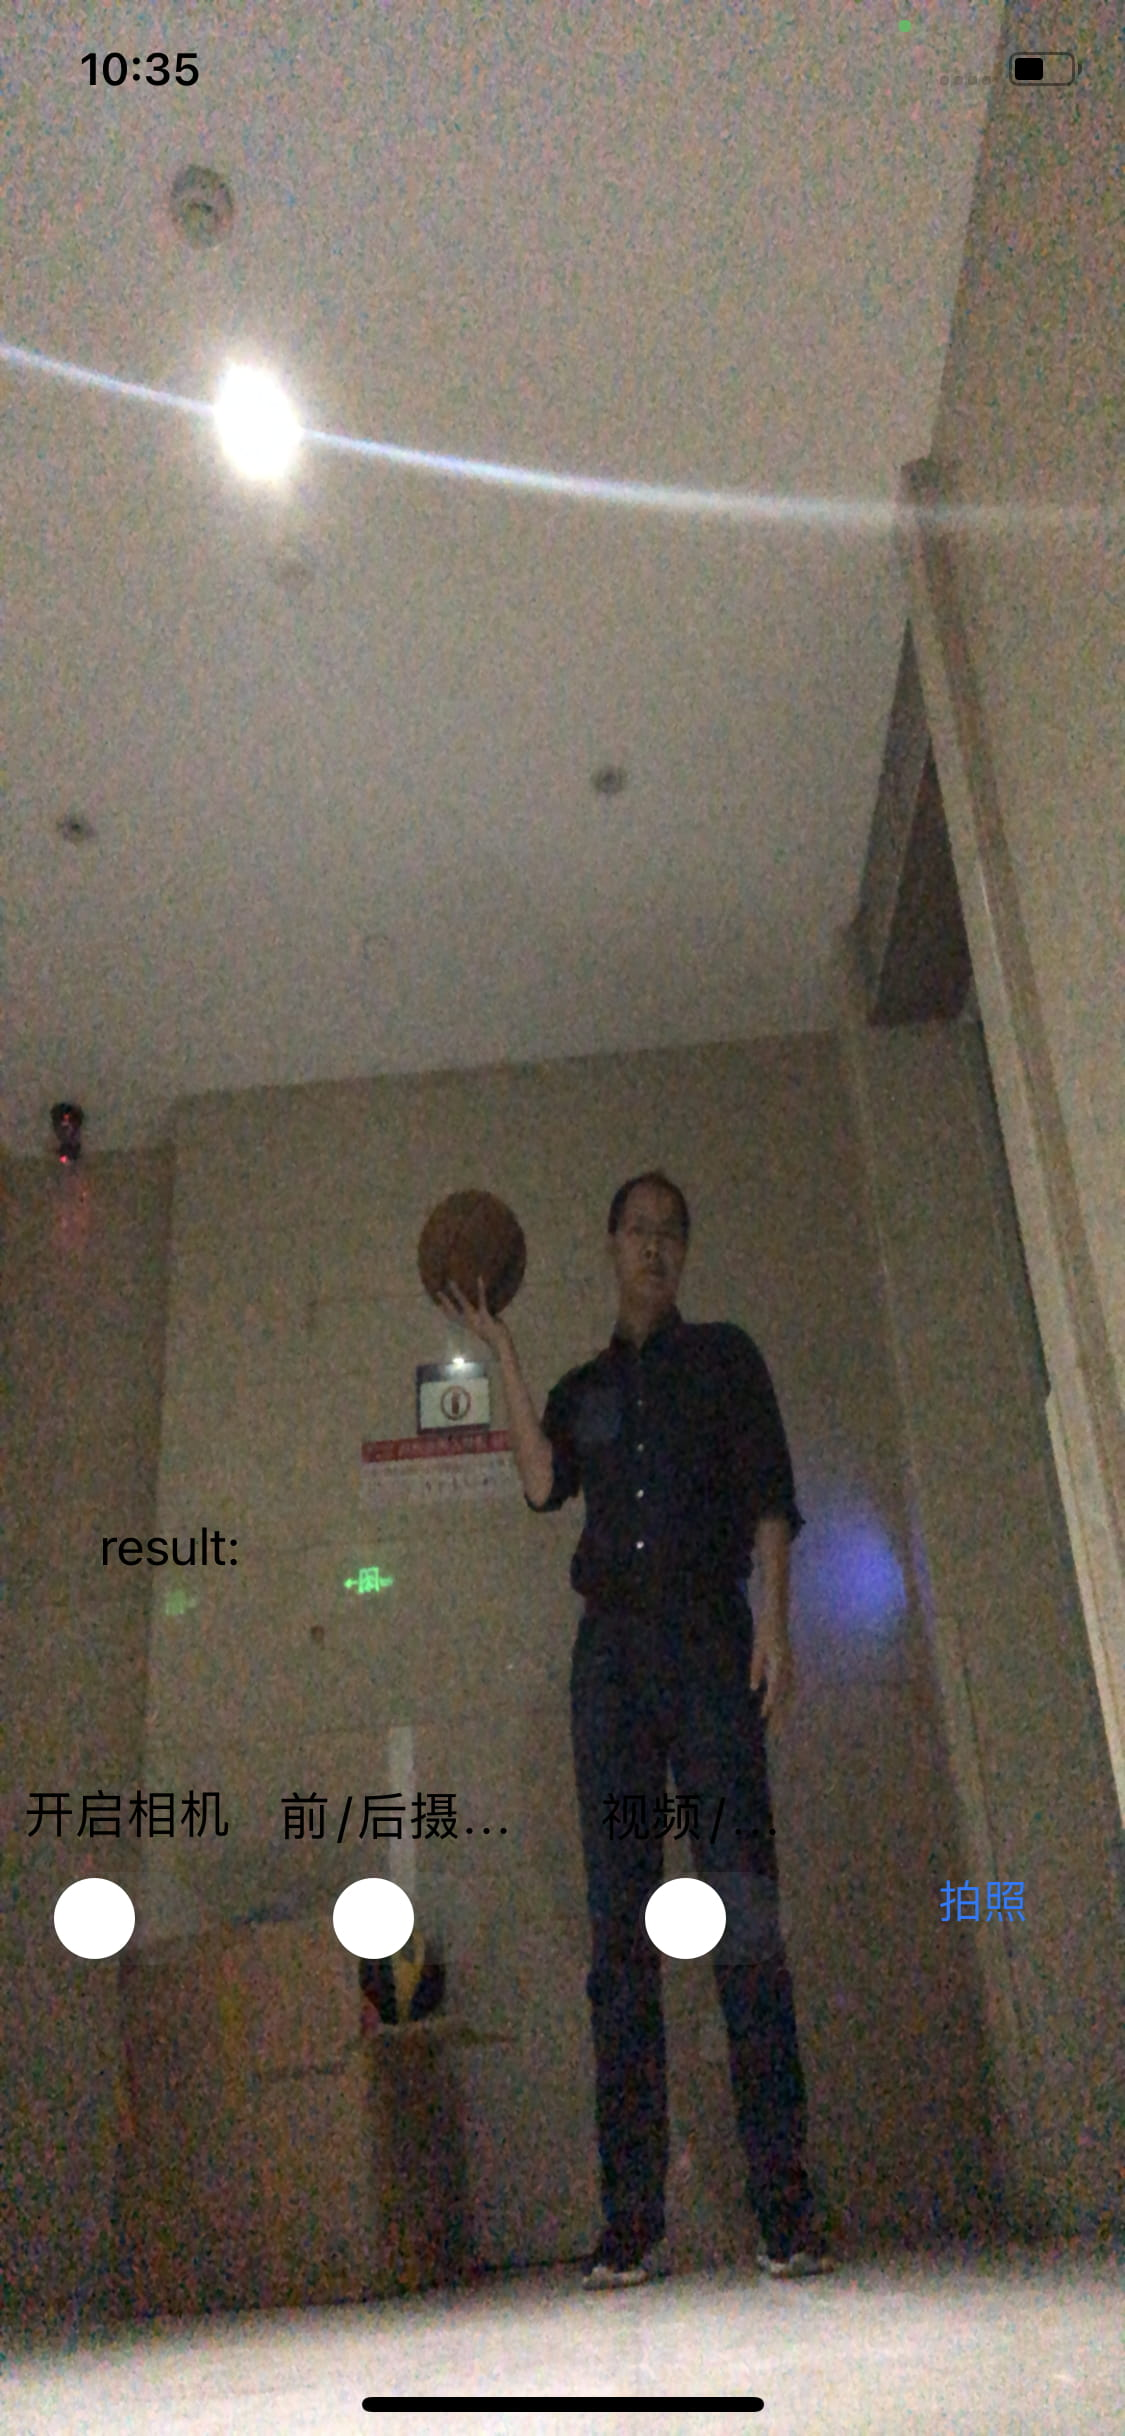ball: (416, 1185, 527, 1321)
